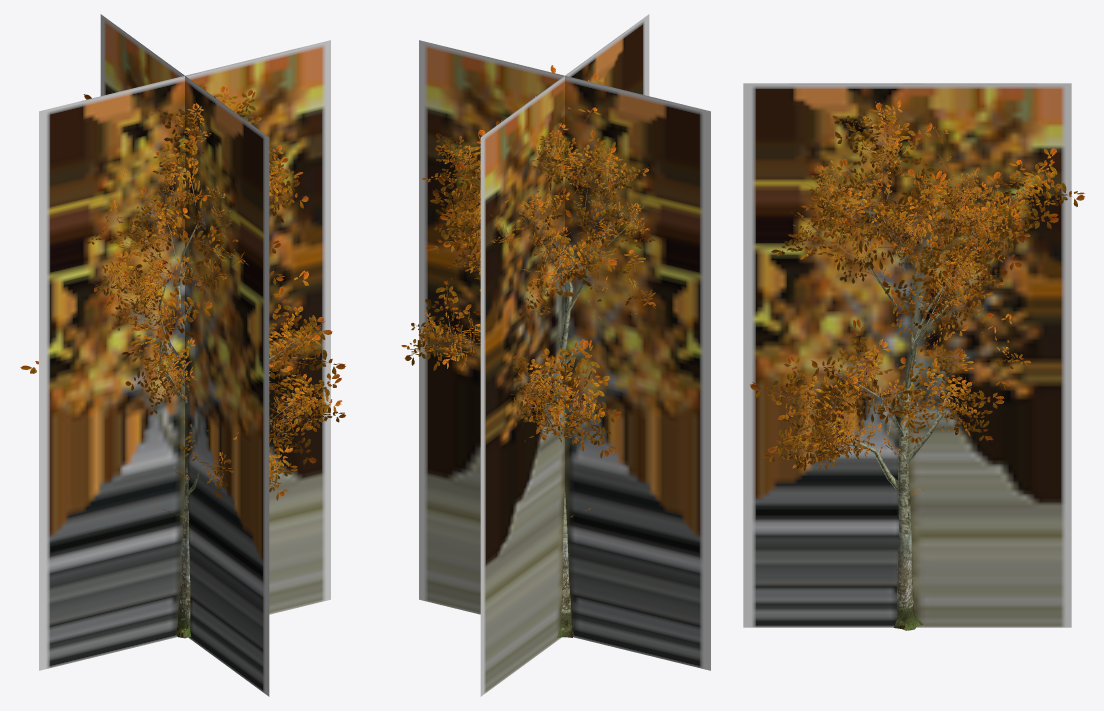
The model's file is Tree-Beech1C.fbx.
3 views of the same model, side by side, from view 1: azimuth 30°, elevation 25°; view 2: azimuth 150°, elevation 25°; view 3: azimuth 270°, elevation 25° (orthographic). The views are drawn at different scales.
Parts seen in each view (by area): view 1: Billboard-BeechC, Tree-Beech1C_LOD0; view 2: Billboard-BeechC, Tree-Beech1C_LOD0; view 3: Billboard-BeechC, Tree-Beech1C_LOD0.
Part boxes in pixels (x1,y1,x2,y2): Billboard-BeechC: (39,14,330,696); Tree-Beech1C_LOD0: (20,85,345,638); Billboard-BeechC: (419,14,710,696); Tree-Beech1C_LOD0: (401,65,661,637); Billboard-BeechC: (743,83,1071,627); Tree-Beech1C_LOD0: (750,100,1084,630).
Size of what is drawn, in the model's own units: 1305 by 2354 by 1374.
